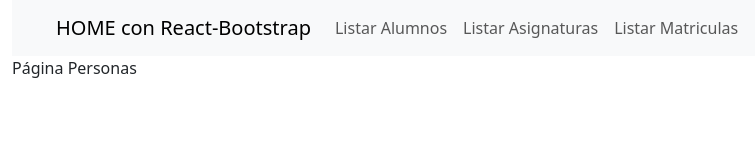
Test: Menu component › el enlace HOME navega a /home
The width and height of the screenshot is (755, 160).
Click the link "HOME con React-Bootstrap" at (184, 28), box [56,8,311,48]
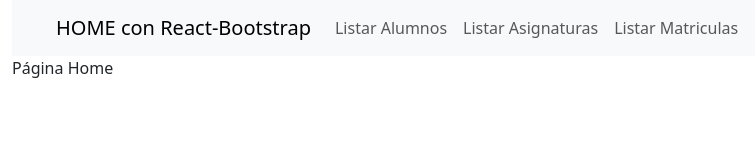
Result: the text "Página Home" is shown at [12,57,113,79]
